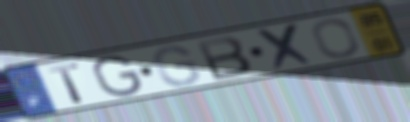B: (193, 34, 254, 82)
G: (90, 54, 145, 99), (151, 45, 204, 88)
O: (310, 17, 362, 60)
T: (46, 61, 87, 104)
X: (254, 21, 320, 73)
